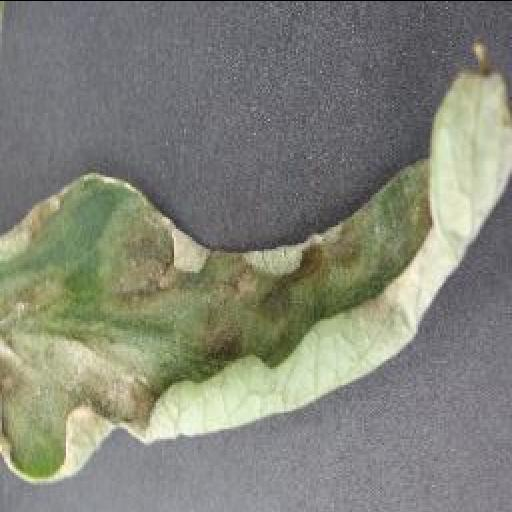disease_tomato: (0, 40, 512, 480)
